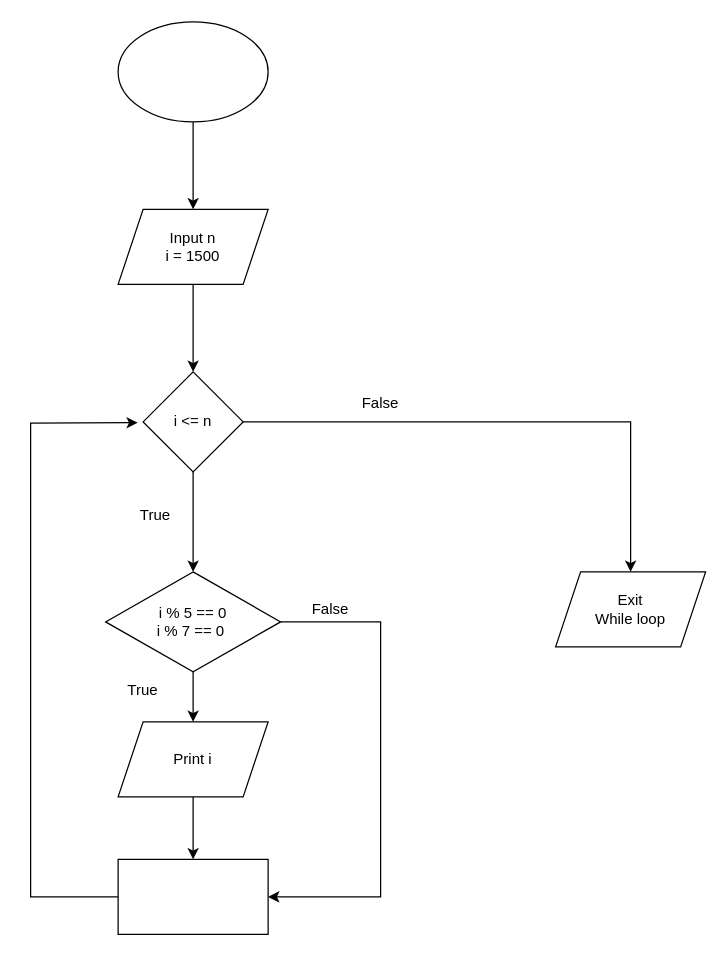
Some shapes in this 728 by 956 pixel diagram are drawn without their labels. The shapes that lost their labels are listed below. From the top down, each one's centre as x and y in pixels, then its label:
At (x=192, y=71): "BEGIN".
At (x=192, y=896): "i = i + 1".
